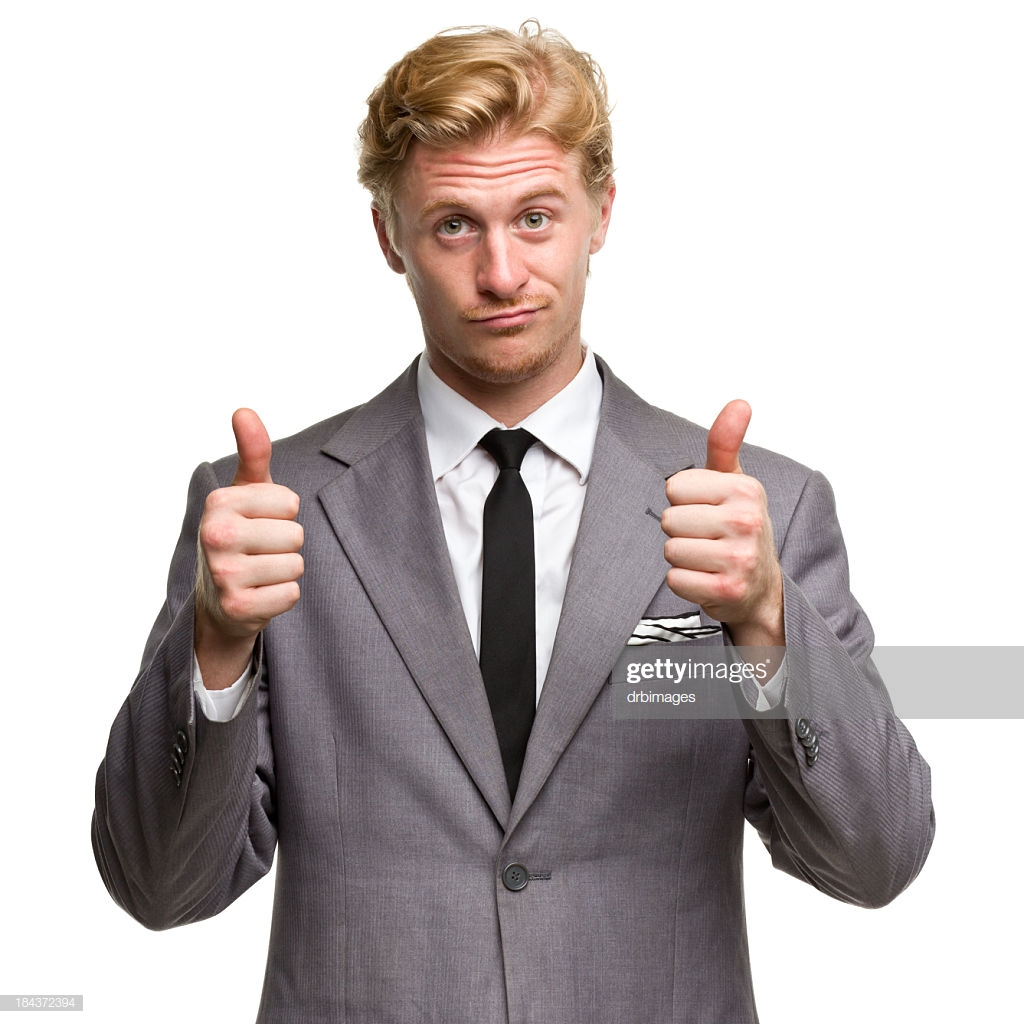thumbsup: (196, 406, 306, 625), (661, 398, 767, 611)
